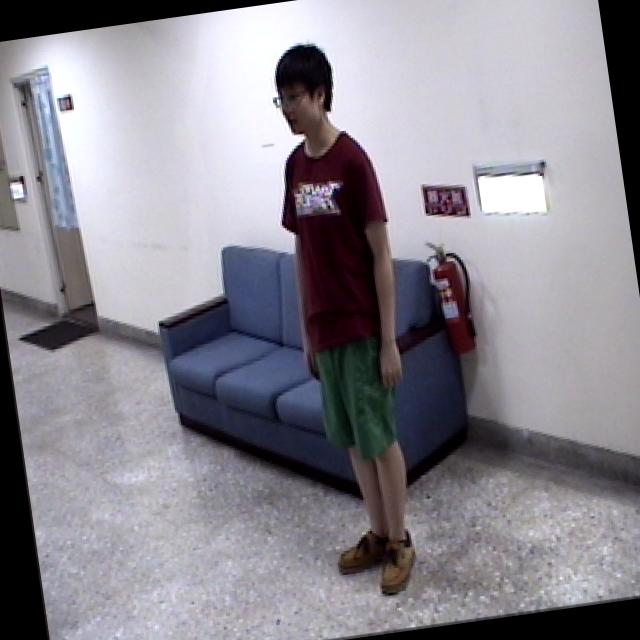stand: (245, 19, 448, 622)
